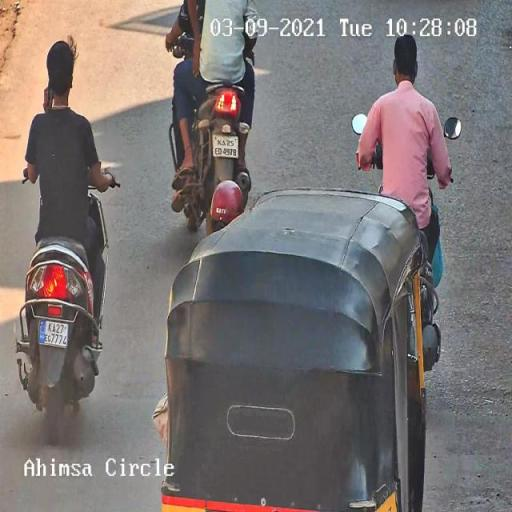numberplate: (37, 319, 69, 350)
using mobile: (42, 81, 56, 110)
